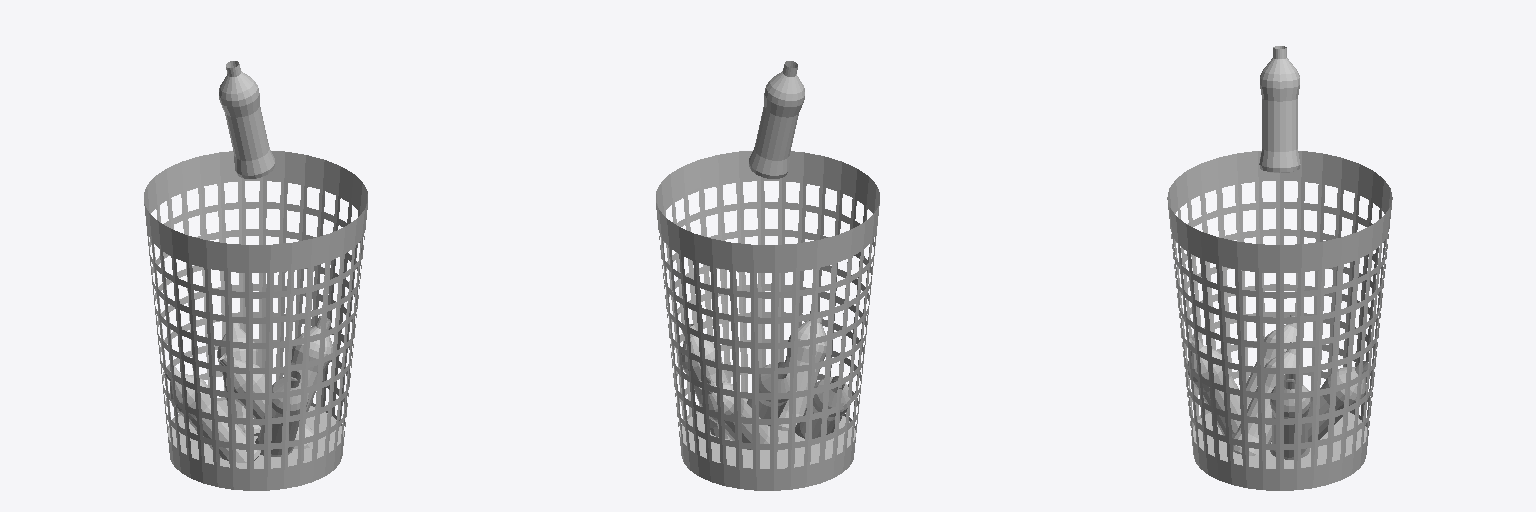
File: DustbinWithCan_000017.obj
The picture shows the model from 3 angles: view 1: azimuth 30°, elevation 25°; view 2: azimuth 150°, elevation 25°; view 3: azimuth 270°, elevation 25°; orthographic projection.
Visible parts, largest first — view 1: Cylinder, Plane.006, Plane.005, Plane.001, Plane.004, Plane.003, Plane.002; view 2: Cylinder, Plane.006, Plane.001, Plane.002, Plane.005, Plane.003, Plane.004; view 3: Cylinder, Plane.006, Plane.001, Plane.004, Plane.003, Plane.002, Plane.005.
Part boxes in pixels (bbox=[...]): Cylinder: bbox=[144, 151, 367, 490]; Plane.006: bbox=[219, 61, 274, 178]; Plane.005: bbox=[163, 365, 260, 462]; Plane.001: bbox=[255, 371, 308, 456]; Plane.004: bbox=[219, 353, 313, 448]; Plane.003: bbox=[283, 316, 332, 411]; Plane.002: bbox=[217, 323, 260, 435]; Cylinder: bbox=[656, 151, 879, 490]; Plane.006: bbox=[749, 61, 804, 178]; Plane.001: bbox=[770, 311, 826, 430]; Plane.002: bbox=[699, 378, 778, 449]; Plane.005: bbox=[795, 376, 851, 438]; Plane.003: bbox=[681, 324, 730, 439]; Plane.004: bbox=[747, 362, 789, 425]; Cylinder: bbox=[1167, 151, 1392, 490]; Plane.006: bbox=[1259, 46, 1300, 172]; Plane.001: bbox=[1188, 337, 1247, 436]; Plane.004: bbox=[1232, 342, 1295, 455]; Plane.003: bbox=[1270, 374, 1310, 459]; Plane.002: bbox=[1308, 361, 1367, 441]; Plane.005: bbox=[1246, 315, 1296, 405].
Bounding box in the file's own units: 2.6 × 5.06 × 2.6.